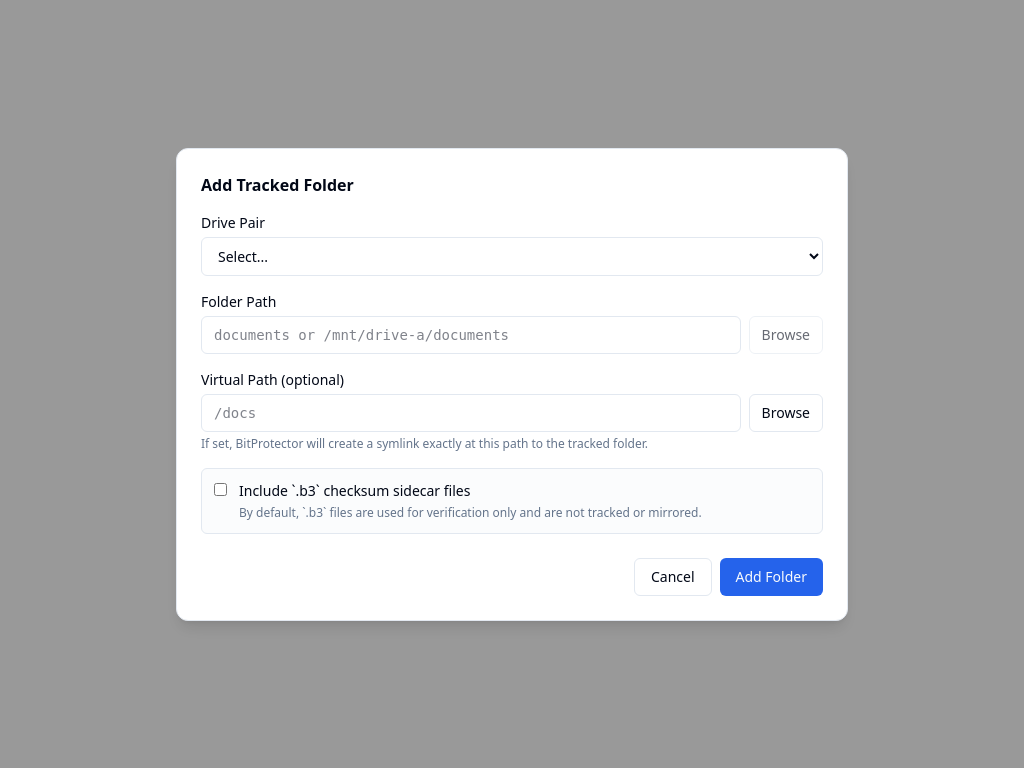
FolderFormModal › shows virtual path validation error for non-absolute virtual path
Select "Main Pair" in the dropdown at {"x": 512, "y": 256}, box [201,236,823,276]
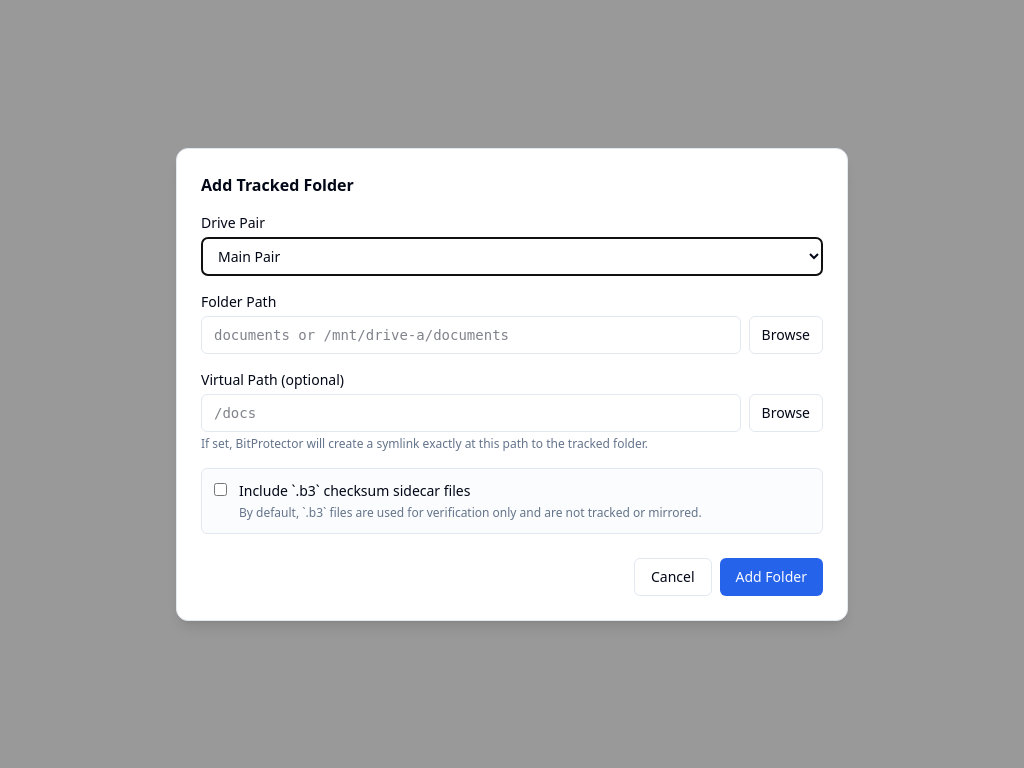
Type "/mnt/primary/documents" into the field with placeholder "documents or /mnt/drive-a/documents".
click(471, 334); type("/mnt/primary/documents")  # box [201,316,741,354]
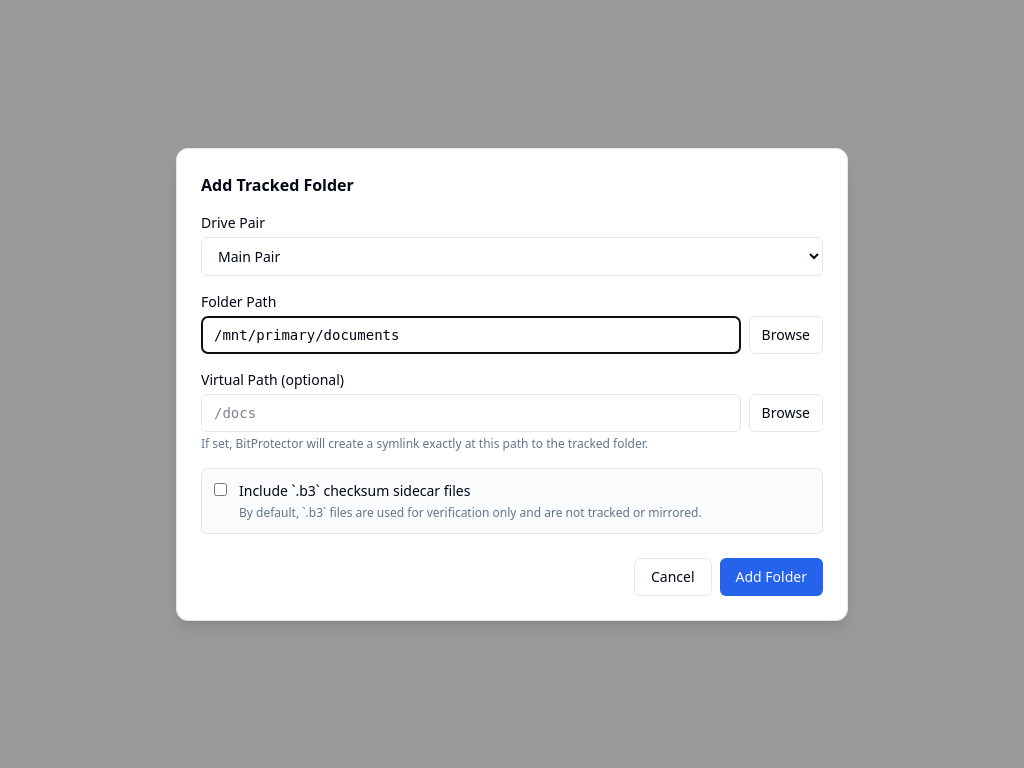
Type "relative/path" into the field with placeholder "/docs".
click(471, 412); type("relative/path")  # box [201,394,741,432]
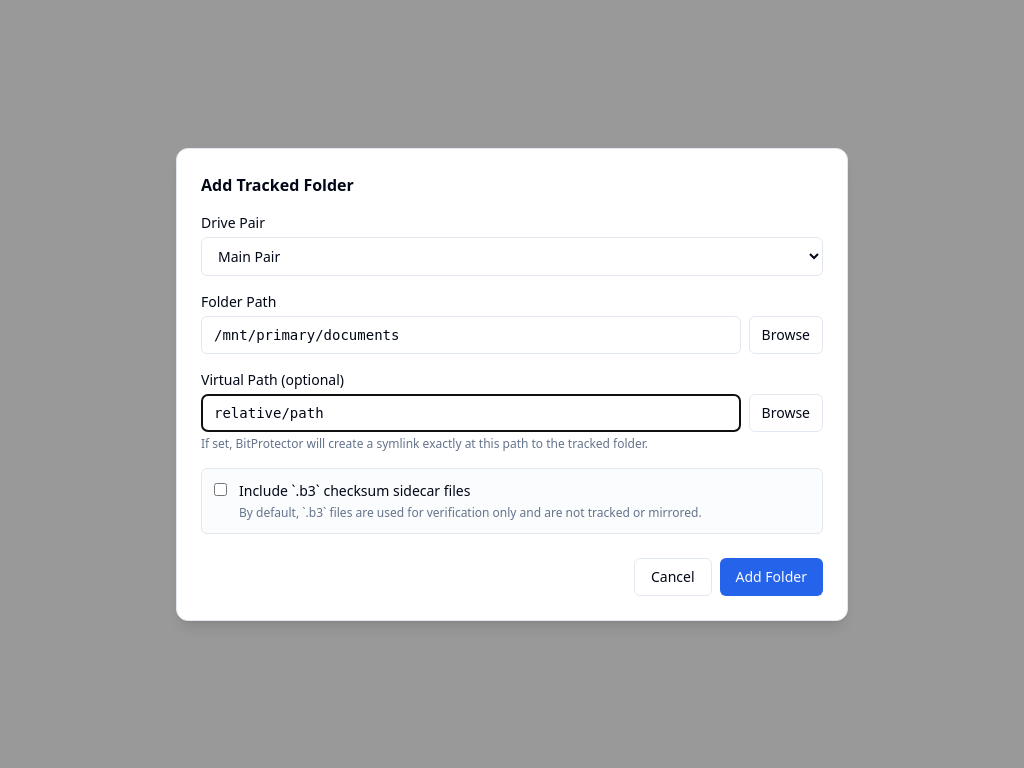
Click the button "Add Folder".
click(771, 576)  # box [720,558,823,596]
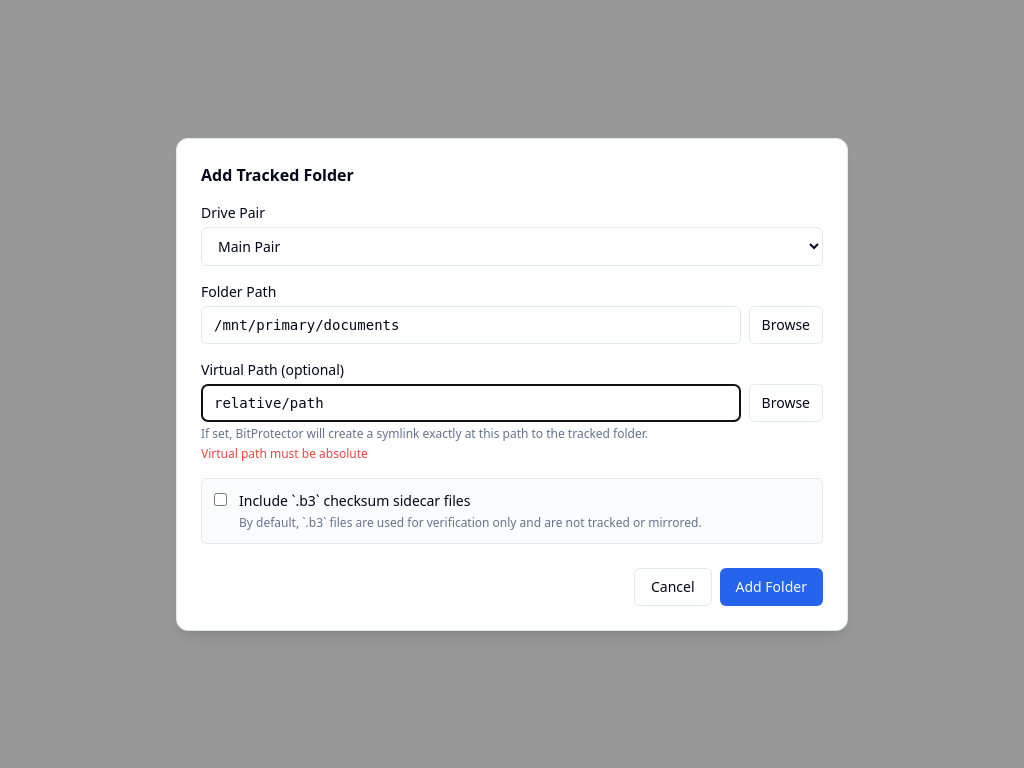
Expected: the text "Virtual path must be absolute" is shown, [201,444,368,462]
